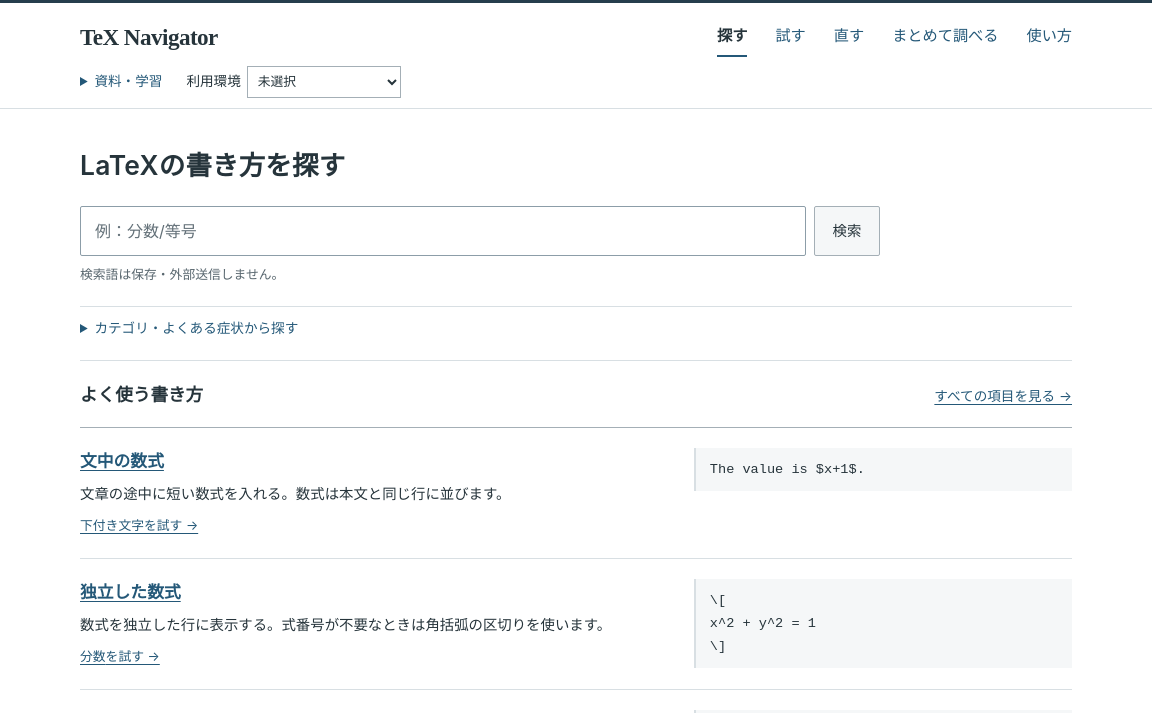
it: メインナビゲーションから直接レシピへ進める
Click the link "試す": coordinates (791, 36) top-left (775, 26), bottom-right (806, 45)
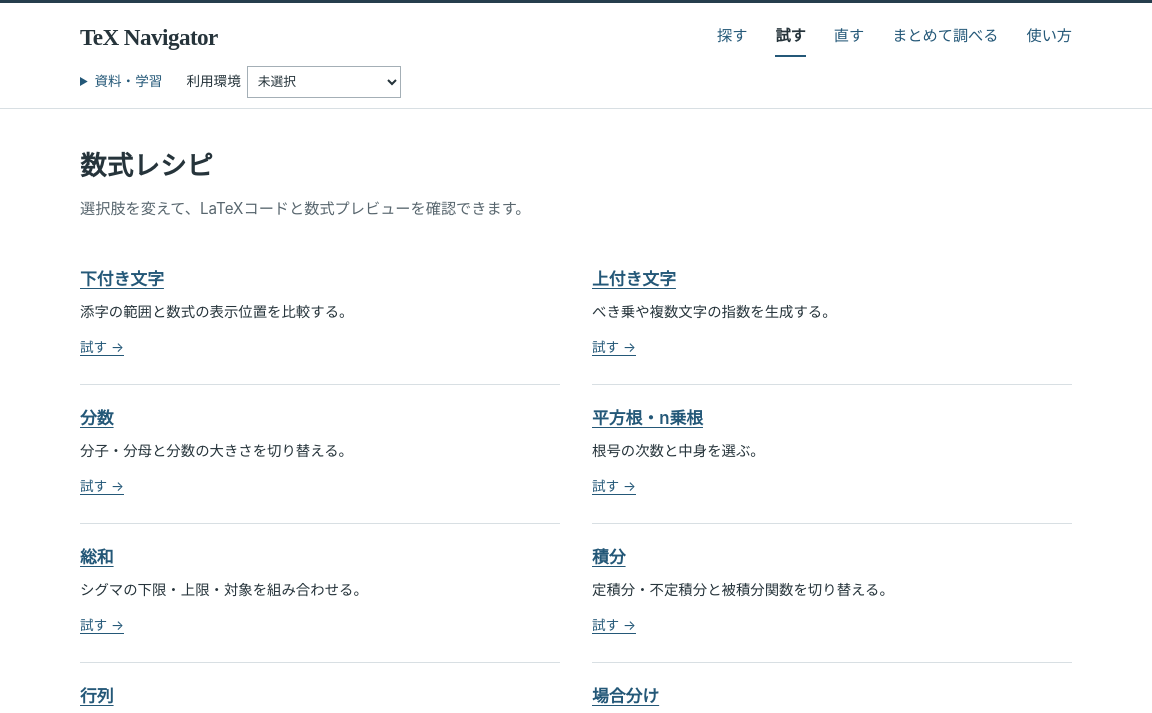
Expected: the heading "数式レシピ" is shown, top-left (80, 149), bottom-right (213, 181)
